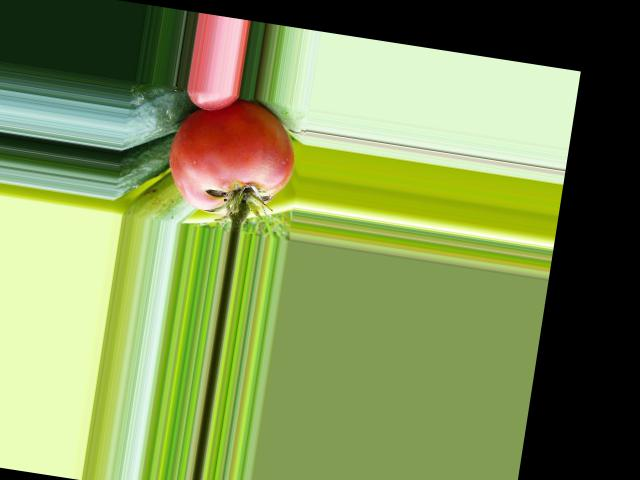tomato: (162, 89, 302, 222)
